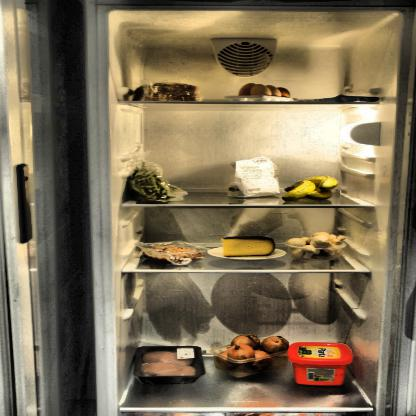banana: (283, 175, 345, 204)
butter: (287, 342, 356, 388)
cheese: (220, 235, 280, 258)
chicken: (138, 346, 206, 383)
chocolate: (296, 93, 387, 104)
eggs: (236, 82, 292, 105)
green_beans: (127, 164, 169, 205)
mushrooms: (287, 232, 352, 257)
onion: (219, 333, 292, 373)
shrimp: (141, 243, 206, 262)
